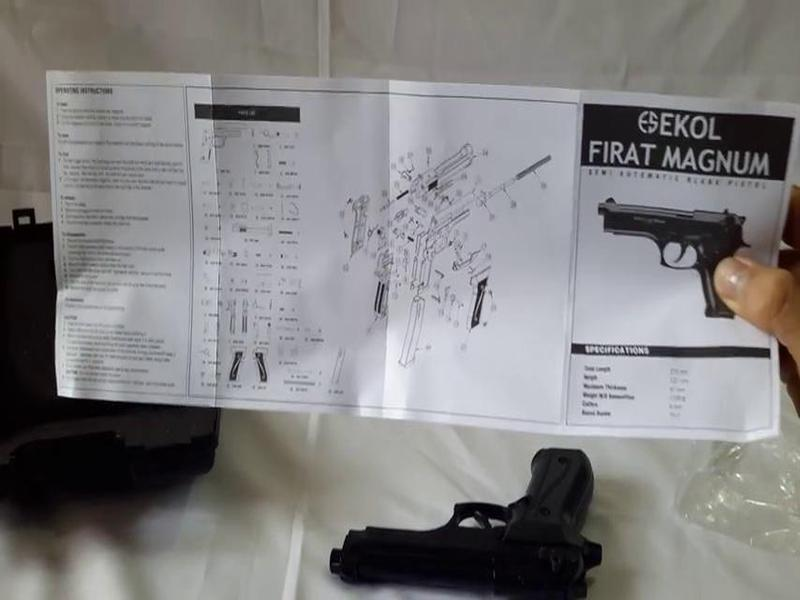Pistola: (312, 433, 605, 600)
